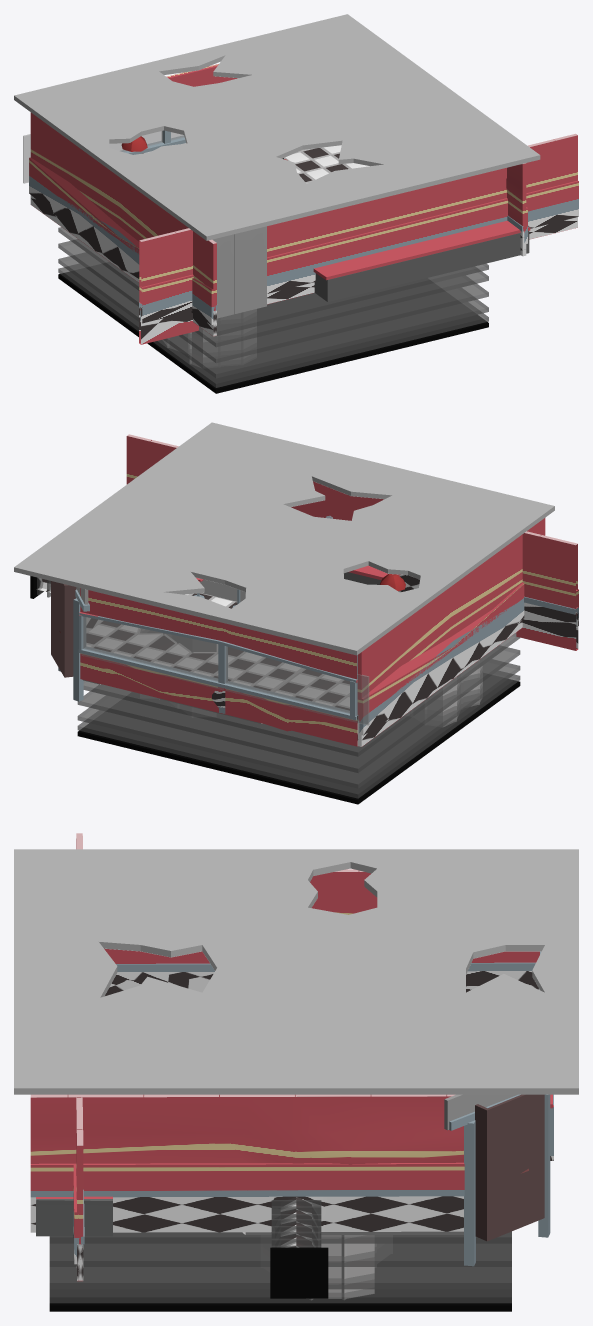
The model's file is Day 4.fbx.
The picture shows the model from 3 angles, top to bottom: view 1: azimuth 30°, elevation 25°; view 2: azimuth 150°, elevation 25°; view 3: azimuth 270°, elevation 25°; orthographic projection. The views are drawn at different scales.
Visible parts, largest first — view 1: pPlane6, pCube66, pCube24, pCube106, pCube105, pCube107, pCube29, pCube104, pCube108, pCube67, pCube103, pPlane9 (+5 smaller); view 2: pPlane6, pCube16, pCube24, pCube106, pCube105, pCube107, pPlane9, pCube108, pCube67, pCube70, pCube69, pCube104 (+5 smaller); view 3: pPlane6, pCube91, pCube106, pCube107, pCube105, pCube108, pCube134, pCube24, pCube104, pPlane9, pCube100, pCube29 (+4 smaller).
Boxes of the visible parts, x1,y1,x2,y2 form: pPlane6: (14,14,540,240); pCube66: (267,133,578,304); pCube24: (29,112,217,336); pCube106: (58,253,488,378); pCube105: (58,239,488,363); pCube107: (58,264,488,387); pCube29: (313,220,530,301); pCube104: (58,227,488,347); pCube108: (58,272,488,393); pCube67: (139,228,198,344); pCube103: (216,263,488,336); pPlane9: (163,145,369,367); pPlane6: (14,422,554,655); pCube16: (78,588,357,746); pCube24: (357,518,545,746); pCube106: (77,659,520,788); pCube105: (77,645,520,772); pCube107: (77,671,520,798); pPlane9: (83,593,482,726); pCube108: (77,679,520,804); pCube67: (516,531,578,650); pCube70: (225,646,369,725); pCube69: (81,615,223,689); pCube104: (83,633,519,756); pPlane6: (14,849,578,1094); pCube91: (30,1094,464,1247); pCube106: (49,1244,511,1289); pCube107: (49,1267,511,1303); pCube105: (49,1232,511,1266); pCube108: (49,1289,511,1311); pCube134: (475,1094,544,1241); pCube24: (104,869,539,995); pCube104: (49,1231,511,1243); pPlane9: (242,1231,463,1300); pCube100: (270,1247,328,1298); pCube29: (36,1196,112,1236).
Size of the model in its own units: 59.25 by 21.7 by 44.19.
